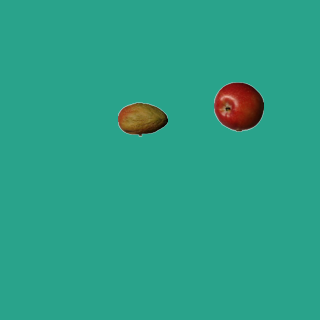Apple Braeburn: (213, 81, 263, 131)
Papaya: (117, 94, 167, 144)
